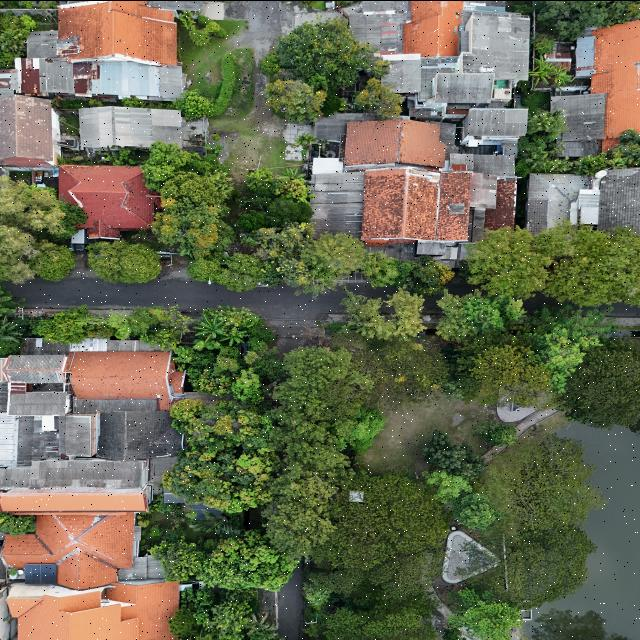Tree: (88, 238, 160, 284), (339, 287, 392, 340), (24, 242, 72, 281), (212, 252, 260, 289), (434, 291, 466, 340), (424, 468, 469, 502), (392, 288, 422, 337), (368, 250, 398, 286), (482, 422, 517, 447), (232, 210, 264, 230), (241, 348, 260, 366)
